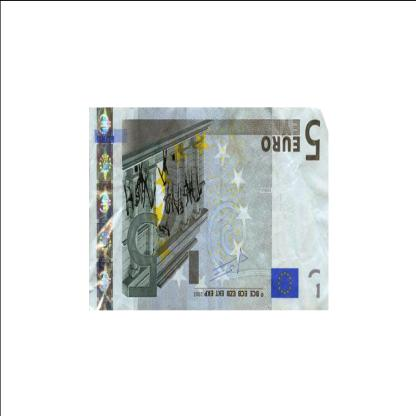euro_banknote: (90, 108, 330, 313)
